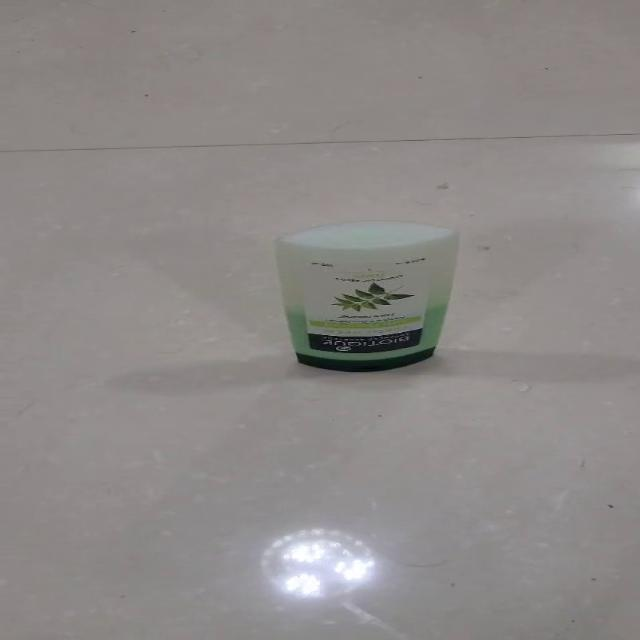plastic: (273, 219, 459, 372)
